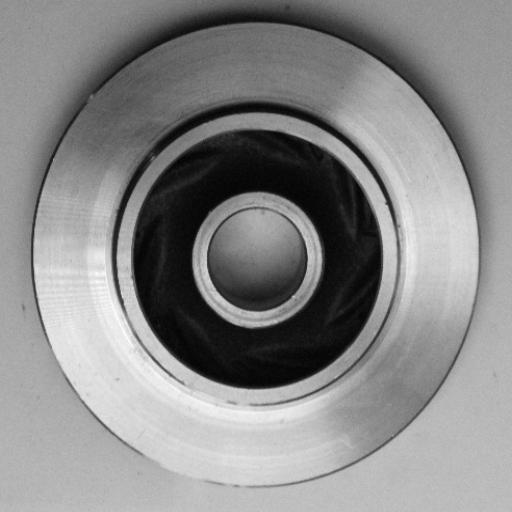scratch: (180, 372, 271, 424), (149, 455, 256, 498)
unpolished_casting: (30, 20, 483, 489)
